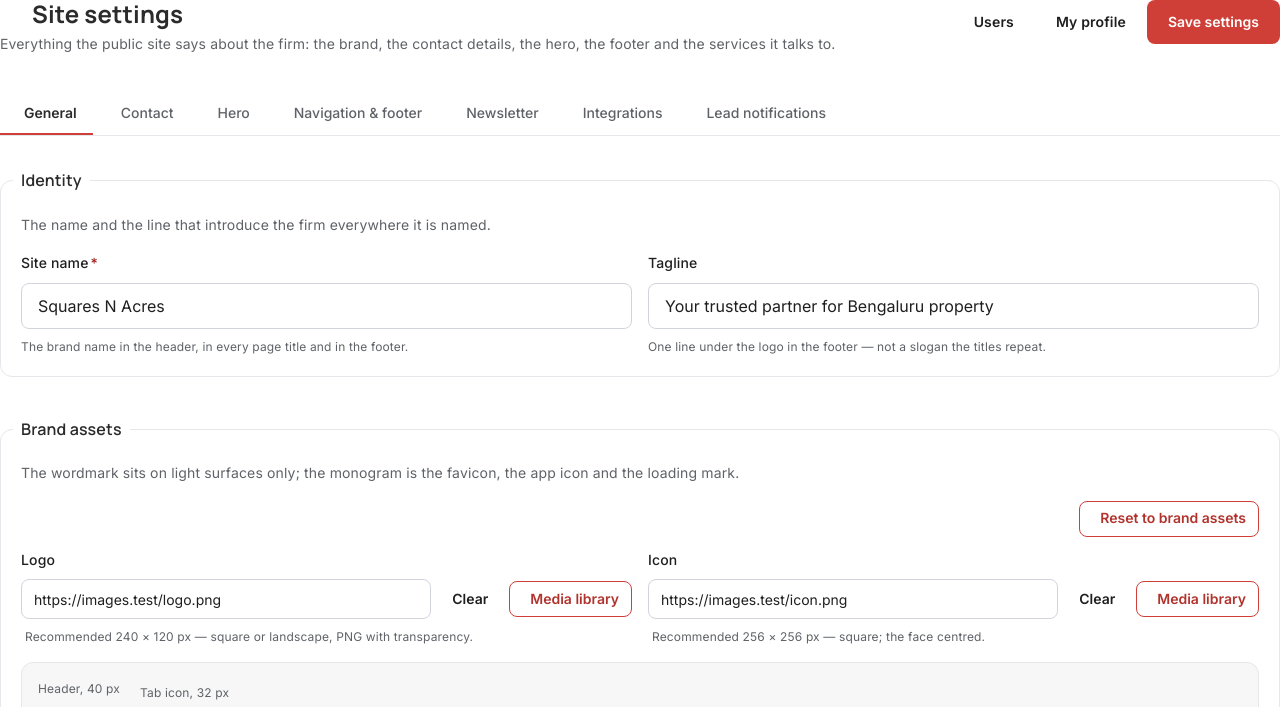
Scenario: QA-64 › sends a test alert and says where it went — or why it did not
The width and height of the screenshot is (1280, 707).
Check: the field labelled "Site name*" is shown, box [21,283,632,329]
Click the tab "Lead notifications": (762, 113) [682,91,842,135]
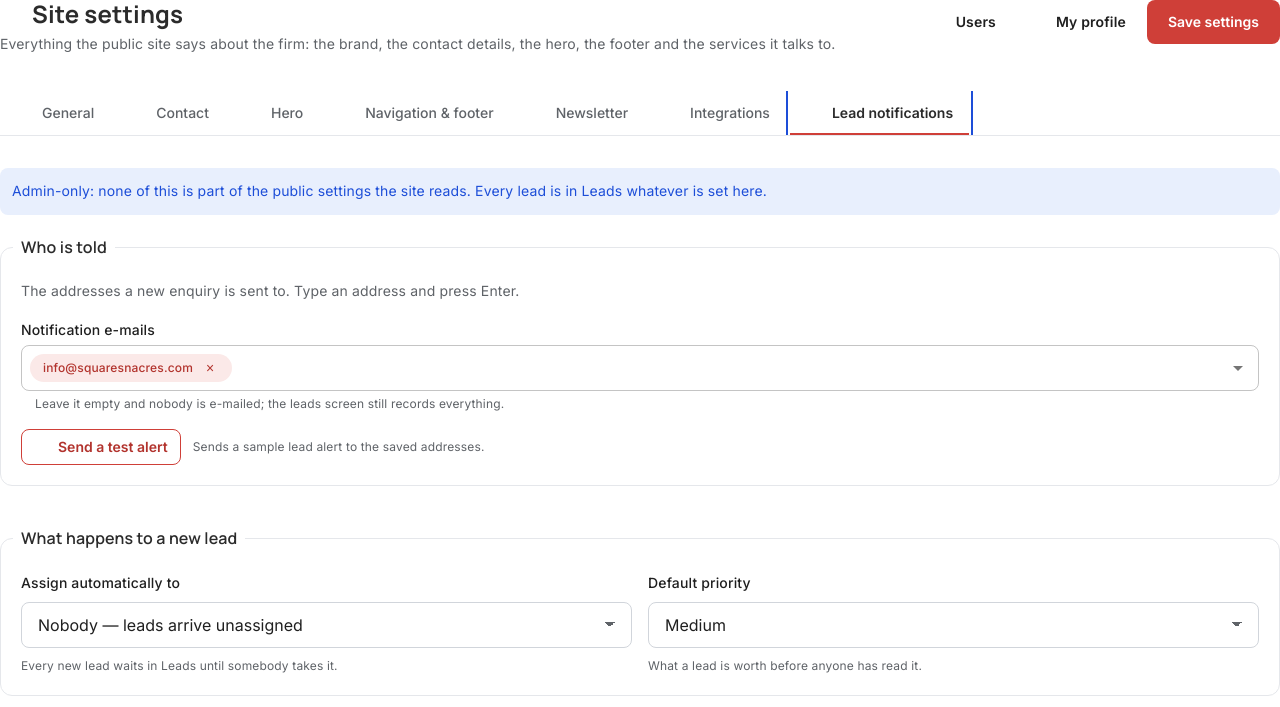
Check: the text "Sends a sample lead alert to the saved addresses." is shown, box [193,439,485,454]
Click the button "Send a test alert": (101, 447) [21,429,181,465]
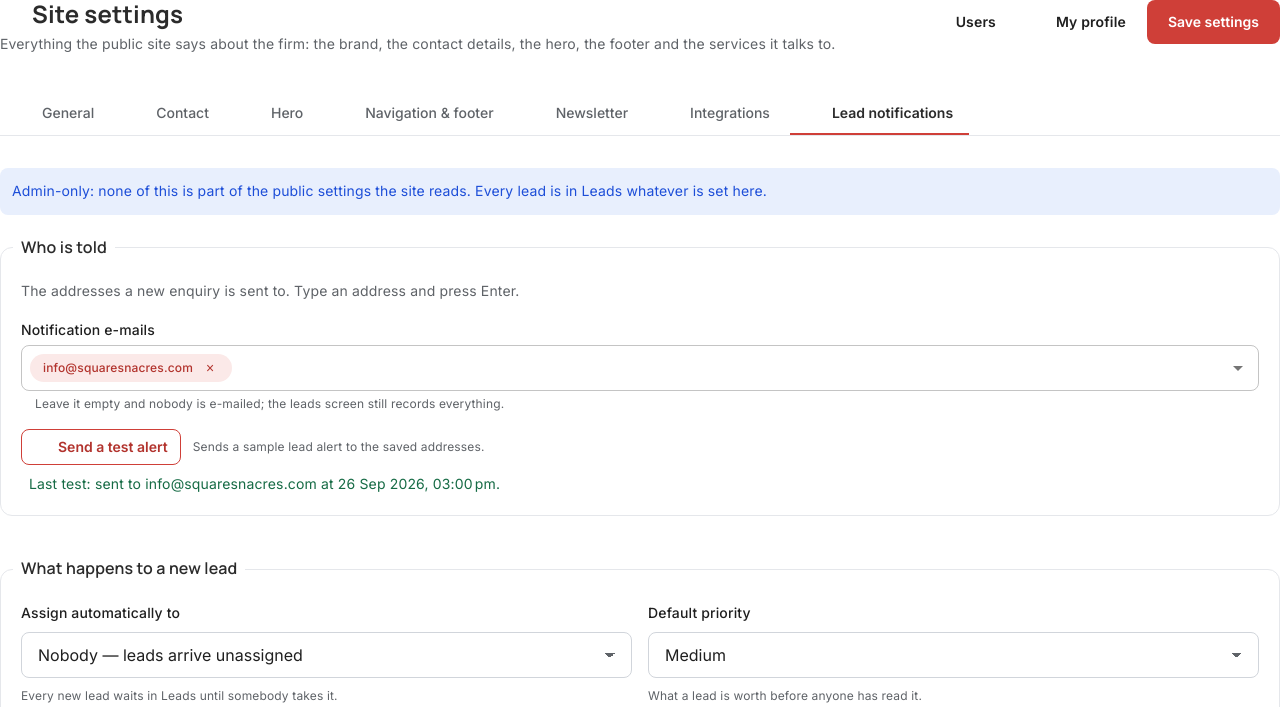
Check: the text "Last test: sent to info@squaresnacres.com at" is shown, box [29,475,500,492]
Click the button "Send a test alert": (101, 447) [21,429,181,465]
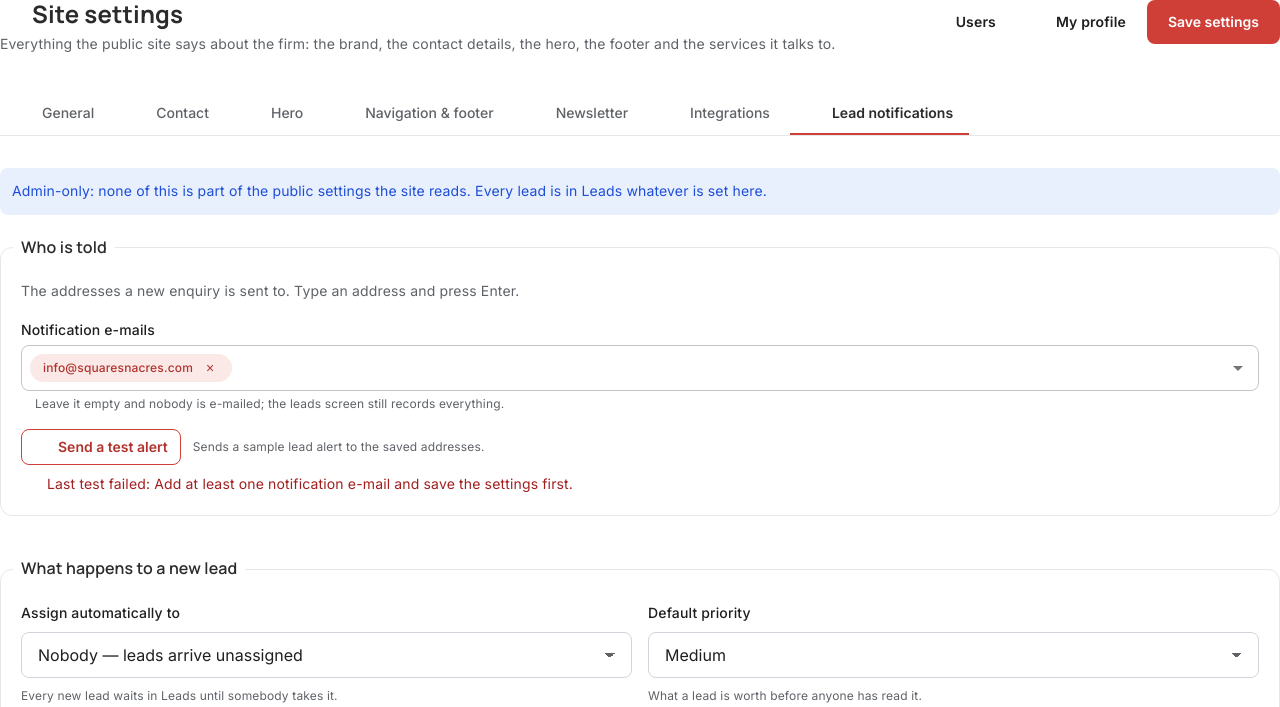
Check: the text "Last test failed: Add at least one notification e-mail and save the settings first." is shown, box [47,475,573,492]
